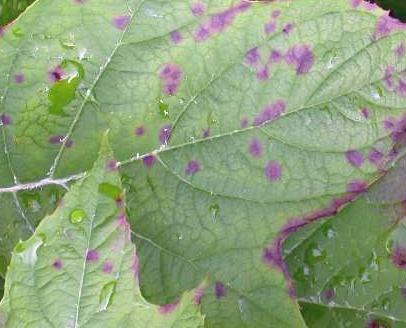Tomato leaf bacterial spot: (0, 0, 406, 245)
